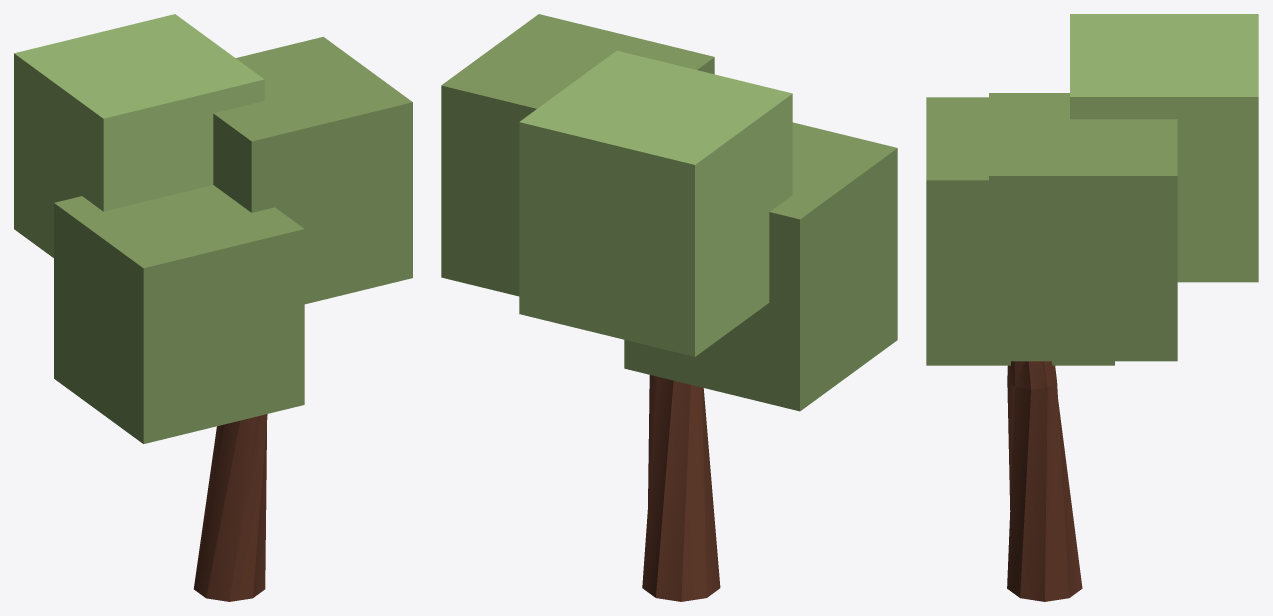
Rendered from preTree1.fbx.
3 views of the same model, side by side, from view 1: azimuth 30°, elevation 25°; view 2: azimuth 150°, elevation 25°; view 3: azimuth 270°, elevation 25° (orthographic). The views are drawn at different scales.
Visible parts, largest first — view 1: Model; view 2: Model; view 3: Model.
Boxes of the visible parts, x1,y1,x2,y2 form: Model: (14,14,412,601); Model: (441,14,897,601); Model: (926,14,1258,601).
Bounding box in the file's own units: 854 × 1329 × 779.
